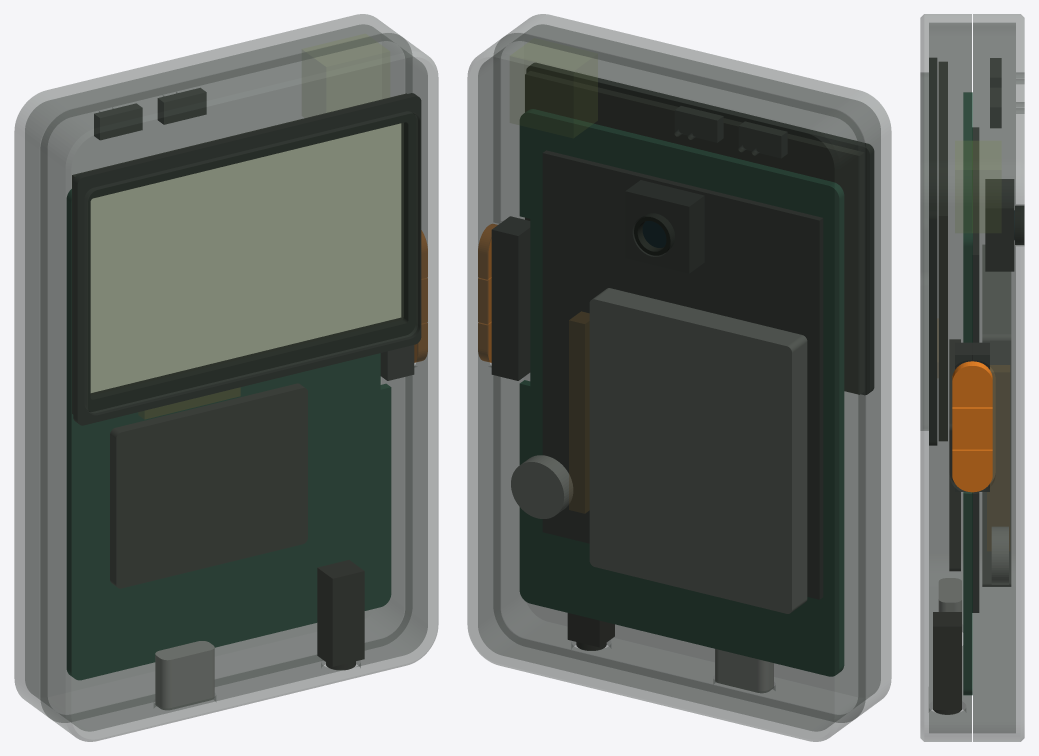
Rendered from yadiggg_r1.glb.
3 renders of one model, left to right at view 1: azimuth 30°, elevation 25°; view 2: azimuth 150°, elevation 25°; view 3: azimuth 270°, elevation 25°, orthographic. The views are drawn at different scales.
Parts seen in each view (by area): view 1: shell_front, shell_rear, display_active, pcb_allocation, compute_shield_allocation, display_support, jack_reservation, usb_reservation, display_module, mic_allocation_6, mic_allocation_18, control_mechanism (+1 smaller); view 2: shell_rear, battery, shell_front, pcb_allocation, underside_population, display_module, control_mechanism, display_support, camera_reservation, battery_service_reservation, haptic_reservation, usb_reservation (+5 smaller); view 3: shell_front, shell_rear, battery, pcb_allocation, display_module, display_support, battery_service_reservation, jack_reservation, camera_reservation, underside_population, control_up, control_select (+8 smaller).
Boxes of the visible parts, x1,y1,x2,y2 form: shell_front: [40, 33, 438, 741]; shell_rear: [14, 14, 411, 722]; display_active: [90, 123, 401, 392]; pcb_allocation: [66, 189, 391, 680]; compute_shield_allocation: [110, 383, 307, 588]; display_support: [73, 93, 421, 425]; jack_reservation: [317, 560, 364, 670]; usb_reservation: [155, 641, 214, 709]; display_module: [72, 93, 406, 413]; mic_allocation_6: [157, 88, 206, 124]; mic_allocation_18: [94, 103, 142, 140]; control_mechanism: [380, 345, 414, 380]; shell_rear: [467, 33, 865, 741]; battery: [589, 288, 807, 613]; shell_front: [494, 14, 891, 722]; pcb_allocation: [519, 109, 844, 676]; underside_population: [542, 150, 823, 599]; display_module: [525, 71, 864, 394]; control_mechanism: [491, 216, 530, 380]; display_support: [526, 63, 874, 394]; camera_reservation: [625, 180, 704, 273]; battery_service_reservation: [569, 312, 588, 513]; haptic_reservation: [511, 455, 572, 518]; usb_reservation: [715, 649, 773, 692]; shell_front: [920, 14, 971, 741]; shell_rear: [973, 14, 1024, 741]; battery: [982, 244, 1011, 586]; pcb_allocation: [963, 92, 972, 695]; display_module: [938, 61, 947, 441]; display_support: [929, 57, 937, 445]; battery_service_reservation: [987, 365, 1009, 550]; jack_reservation: [933, 612, 961, 714]; camera_reservation: [985, 179, 1014, 271]; underside_population: [972, 127, 979, 612]; control_up: [952, 361, 992, 407]; control_select: [952, 407, 992, 449].
Bounding box in the file's own units: 0.0708 × 0.11 × 0.018.
